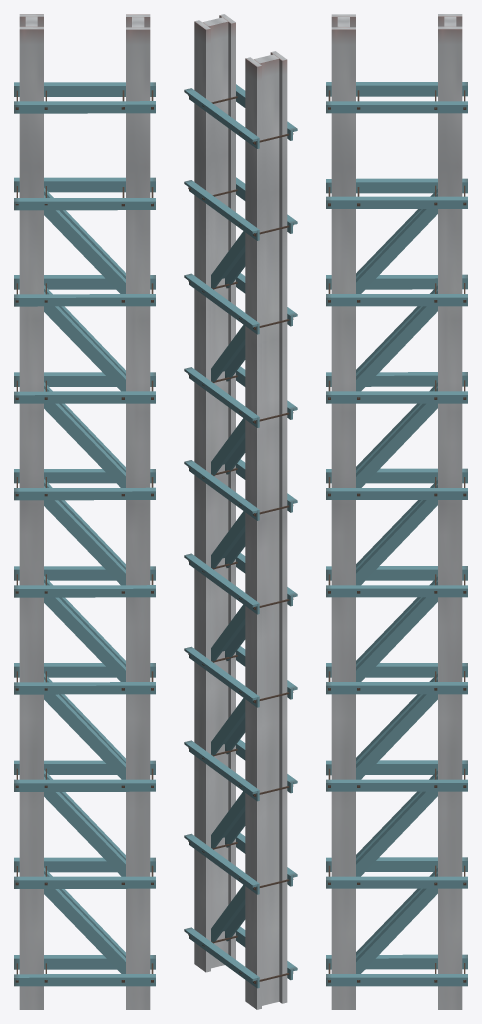
Rendered from soft_column.obj.
The picture shows the model from 3 angles, left to right: view 1: azimuth 90°, elevation 25°; view 2: azimuth 210°, elevation 25°; view 3: azimuth 270°, elevation 25°; orthographic projection. The views are drawn at different scales.
Visible parts, largest first — view 1: catenary_anti, catenary_anti.001, catenary_top_double_left.039, catenary_top_double_left.015, catenary_top_double_left.016, catenary_top_double_left.031, catenary_top_double_left, catenary_top_double_left.032, catenary_top_double_left.007, catenary_top_double_left.008, catenary_top_double_left.024, catenary_top_double_left.023 (+26 smaller); view 2: catenary_anti, catenary_anti.001, catenary_top_double_left.010, catenary_top_double_left.026, catenary_top_double_left.018, catenary_top_double_left.029, catenary_top_double_left.037, catenary_top_double_left.002, catenary_top_double_left.005, catenary_top_double_left.013, catenary_top_double_left.021, catenary_top_double_left.034 (+25 smaller); view 3: catenary_anti, catenary_anti.001, catenary_top_double_left.037, catenary_top_double_left.002, catenary_top_double_left.013, catenary_top_double_left.018, catenary_top_double_left.026, catenary_top_double_left.029, catenary_top_double_left.005, catenary_top_double_left.010, catenary_top_double_left.034, catenary_top_double_left.021 (+26 smaller).
Boxes of the visible parts, x1,y1,x2,y2 form: catenary_anti: (19, 14, 43, 1009); catenary_anti.001: (126, 14, 150, 1009); catenary_top_double_left.039: (14, 90, 155, 113); catenary_top_double_left.015: (14, 671, 155, 694); catenary_top_double_left.016: (14, 574, 155, 597); catenary_top_double_left.031: (14, 283, 155, 306); catenary_top_double_left: (14, 963, 155, 986); catenary_top_double_left.032: (14, 187, 155, 210); catenary_top_double_left.007: (14, 865, 155, 888); catenary_top_double_left.008: (14, 768, 155, 791); catenary_top_double_left.024: (14, 380, 155, 403); catenary_top_double_left.023: (14, 477, 155, 500); catenary_anti: (245, 51, 287, 1009); catenary_anti.001: (194, 14, 235, 972); catenary_top_double_left.010: (184, 740, 293, 801); catenary_top_double_left.026: (184, 367, 293, 427); catenary_top_double_left.018: (184, 553, 293, 614); catenary_top_double_left.029: (184, 273, 293, 334); catenary_top_double_left.037: (184, 88, 293, 148); catenary_top_double_left.002: (184, 927, 293, 988); catenary_top_double_left.005: (184, 833, 293, 894); catenary_top_double_left.013: (184, 646, 293, 707); catenary_top_double_left.021: (184, 460, 293, 520); catenary_top_double_left.034: (184, 180, 293, 240); catenary_anti: (438, 14, 462, 1009); catenary_anti.001: (331, 14, 355, 1009); catenary_top_double_left.037: (326, 90, 467, 113); catenary_top_double_left.002: (326, 963, 467, 986); catenary_top_double_left.013: (326, 671, 467, 694); catenary_top_double_left.018: (326, 574, 467, 597); catenary_top_double_left.026: (326, 380, 467, 403); catenary_top_double_left.029: (326, 283, 467, 306); catenary_top_double_left.005: (326, 865, 467, 888); catenary_top_double_left.010: (326, 768, 467, 791); catenary_top_double_left.034: (326, 185, 467, 208); catenary_top_double_left.021: (326, 477, 467, 499).
Size of the model in its own units: 0.5601 by 11.19 by 1.47.
1 material, 1 textured.
